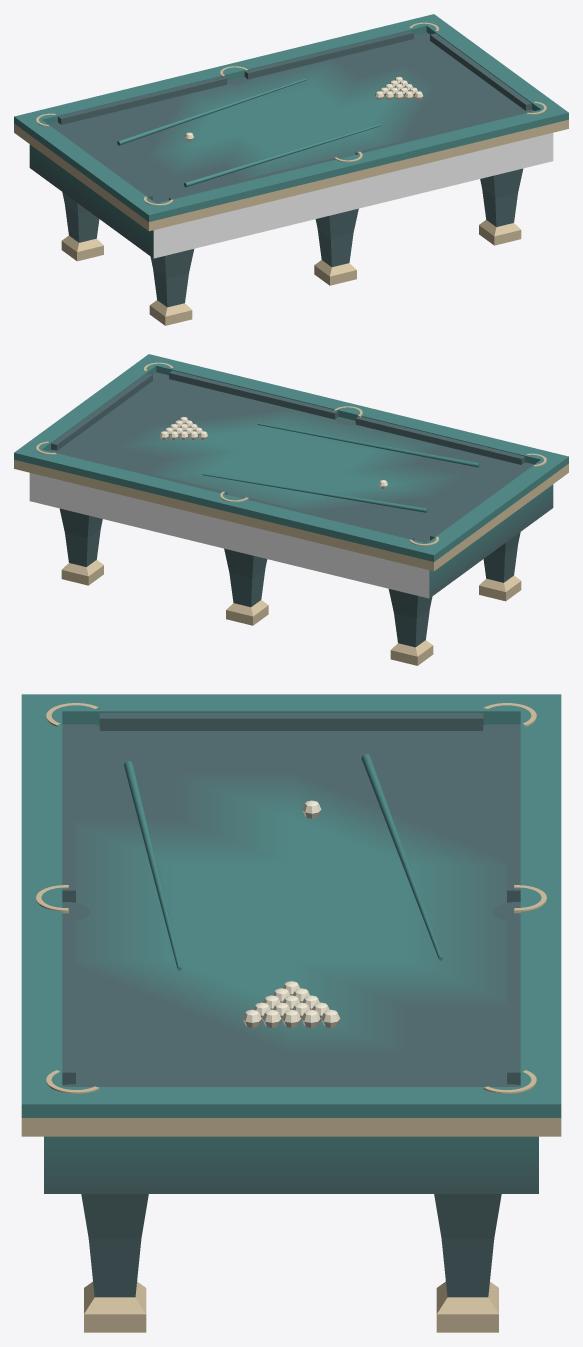
File: KC32__AD_Int_Billiard_Table.glb
3 renders of one model, top to bottom at view 1: azimuth 30°, elevation 25°; view 2: azimuth 150°, elevation 25°; view 3: azimuth 270°, elevation 25°, orthographic. The views are drawn at different scales.
Parts seen in each view (by area): view 1: KC32_CORPS__AD_Int_Billiard_Table, KC32_ACCENT__AD_Int_Billiard_Table, KC32_BRONZE__AD_Int_Billiard_Table, KC32_LUMIERE__AD_Int_Billiard_Table; view 2: KC32_CORPS__AD_Int_Billiard_Table, KC32_ACCENT__AD_Int_Billiard_Table, KC32_BRONZE__AD_Int_Billiard_Table, KC32_LUMIERE__AD_Int_Billiard_Table; view 3: KC32_CORPS__AD_Int_Billiard_Table, KC32_BRONZE__AD_Int_Billiard_Table, KC32_LUMIERE__AD_Int_Billiard_Table.
Part boxes in pixels (left/top/right/bottom): KC32_CORPS__AD_Int_Billiard_Table: left=14, top=14, right=568, bottom=307; KC32_ACCENT__AD_Int_Billiard_Table: left=153, top=133, right=553, bottom=258; KC32_BRONZE__AD_Int_Billiard_Table: left=14, top=22, right=568, bottom=325; KC32_LUMIERE__AD_Int_Billiard_Table: left=185, top=77, right=423, bottom=141; KC32_CORPS__AD_Int_Billiard_Table: left=14, top=354, right=568, bottom=647; KC32_ACCENT__AD_Int_Billiard_Table: left=29, top=473, right=429, bottom=598; KC32_BRONZE__AD_Int_Billiard_Table: left=14, top=362, right=568, bottom=665; KC32_LUMIERE__AD_Int_Billiard_Table: left=159, top=417, right=387, bottom=488; KC32_CORPS__AD_Int_Billiard_Table: left=21, top=694, right=561, bottom=1297; KC32_BRONZE__AD_Int_Billiard_Table: left=21, top=703, right=561, bottom=1332; KC32_LUMIERE__AD_Int_Billiard_Table: left=242, top=800, right=340, bottom=1027.
Size of the model in its own units: 2.86 by 0.8572 by 1.59.
